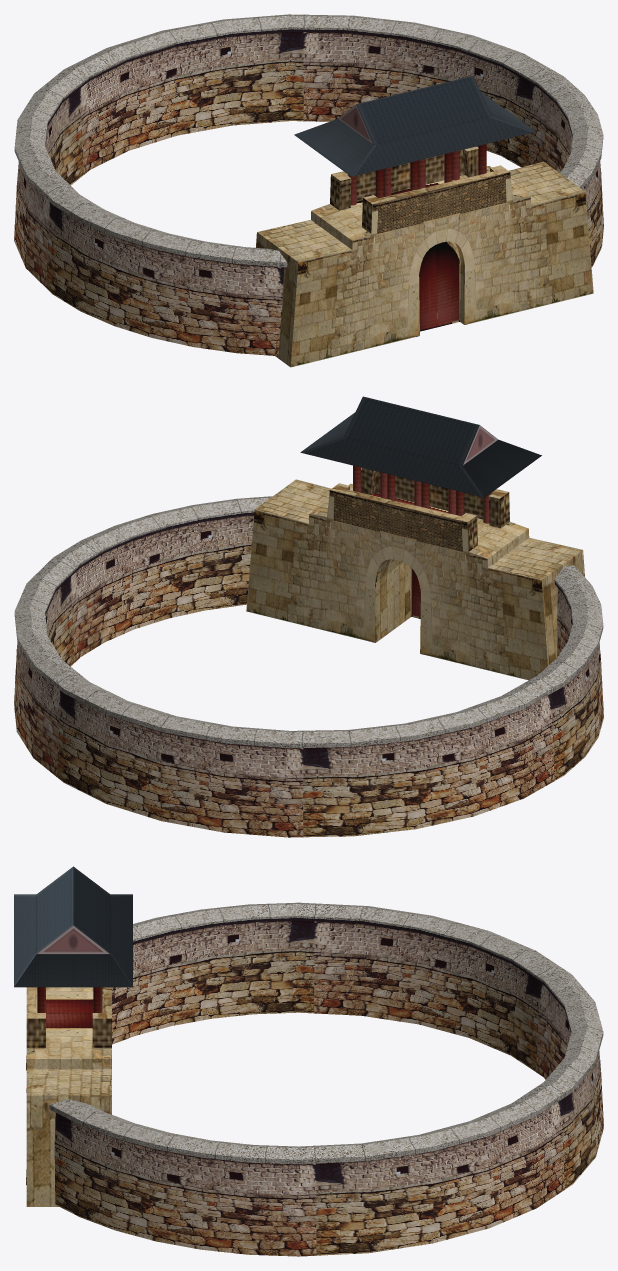
File: Sung.FBX
3 renders of one model, top to bottom at view 1: azimuth 30°, elevation 25°; view 2: azimuth 150°, elevation 25°; view 3: azimuth 270°, elevation 25°, orthographic. The views are drawn at different scales.
Parts seen in each view (by area): view 1: SungWall, SungRu; view 2: SungWall, SungRu; view 3: SungWall, SungRu.
Boxes of the visible parts, x1=… form: SungWall: x1=14, y1=14, x2=603, y2=356; SungRu: x1=256, y1=76, x2=593, y2=367; SungWall: x1=14, y1=496, x2=603, y2=837; SungRu: x1=246, y1=396, x2=584, y2=680; SungWall: x1=26, y1=902, x2=603, y2=1256; SungRu: x1=14, y1=866, x2=132, y2=1206.
Size of the model in its own units: 5 by 2.1 by 4.83.
Materials: 2 (2 with a texture image).
